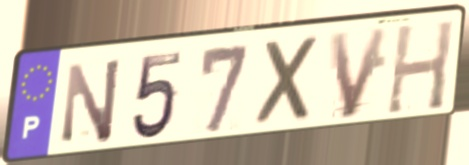5: (128, 49, 186, 141)
7: (197, 41, 253, 135)
H: (383, 17, 457, 117)
N: (60, 54, 125, 146)
V: (326, 23, 393, 122)
X: (254, 32, 324, 131)
